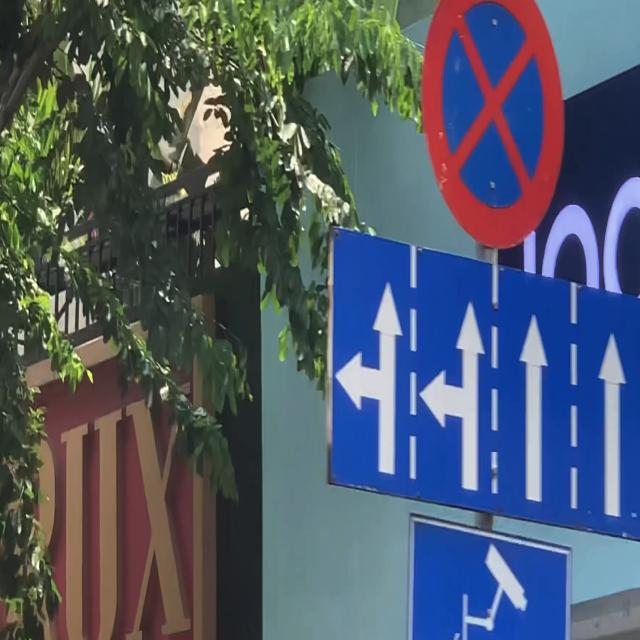Cam dung va do: (421, 0, 566, 249)
